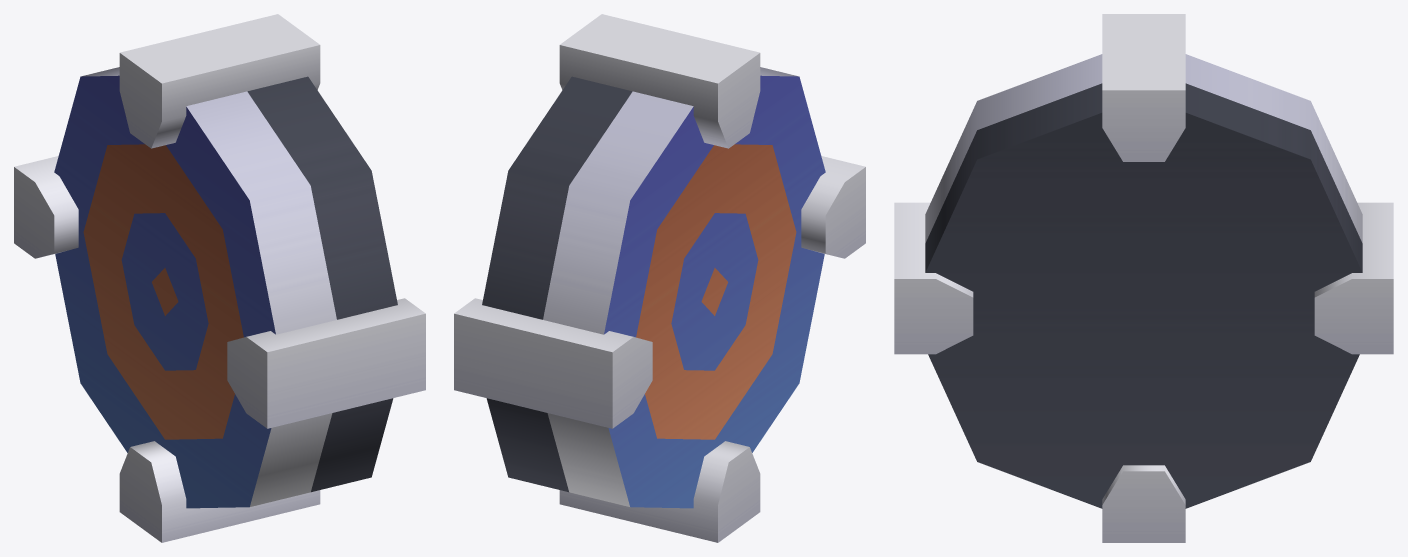
File: target-detail.glb
3 views of the same model, side by side, from view 1: azimuth 30°, elevation 25°; view 2: azimuth 150°, elevation 25°; view 3: azimuth 270°, elevation 25° (orthographic).
Visible parts, largest first — view 1: target-detail; view 2: target-detail; view 3: target-detail.
Boxes of the visible parts, bbox=[...] form: target-detail: bbox=[14, 14, 425, 542]; target-detail: bbox=[454, 14, 865, 542]; target-detail: bbox=[894, 14, 1393, 542].
Size of the model in its own units: 0.13 by 0.36 by 0.36.
Materials: 1 (1 with a texture image).
